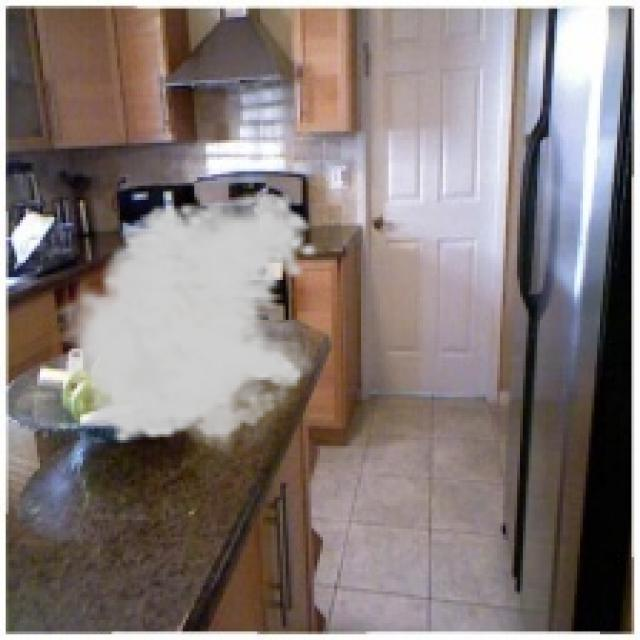Smoke: (48, 188, 320, 461)
